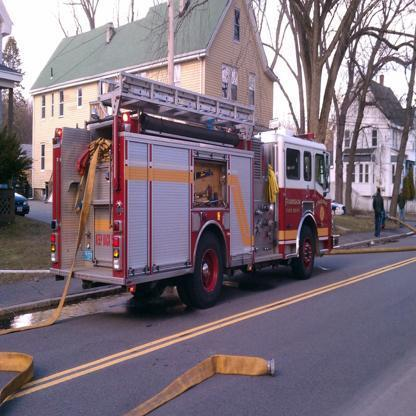fire-truck: (37, 69, 358, 335)
